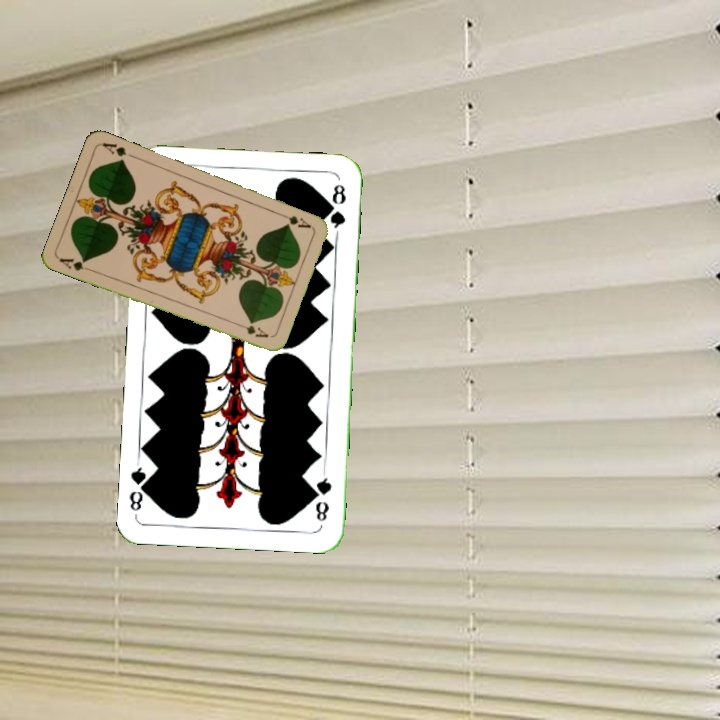G8: (311, 474, 335, 524)
GA: (275, 209, 314, 231), (55, 254, 95, 274)
